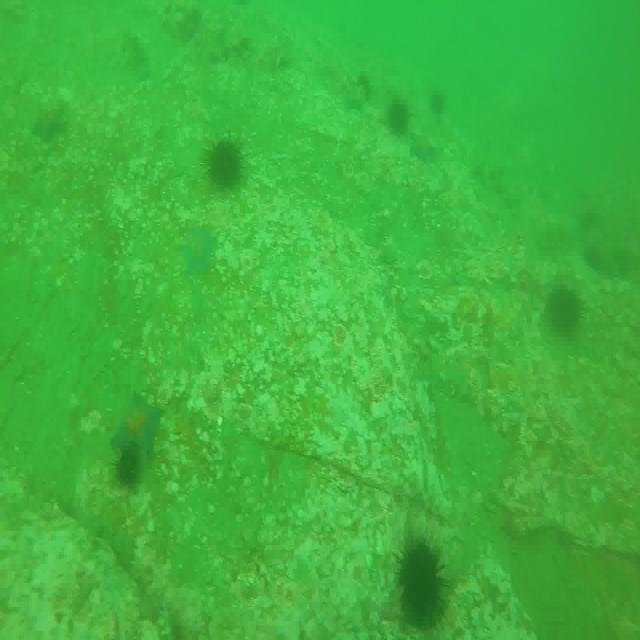echinus: (393, 540, 443, 630), (208, 138, 244, 192), (550, 280, 580, 334), (120, 445, 143, 491), (386, 97, 406, 136), (433, 90, 445, 114)
starfish: (114, 390, 162, 455), (179, 214, 219, 272), (34, 104, 71, 142), (408, 128, 440, 166)
